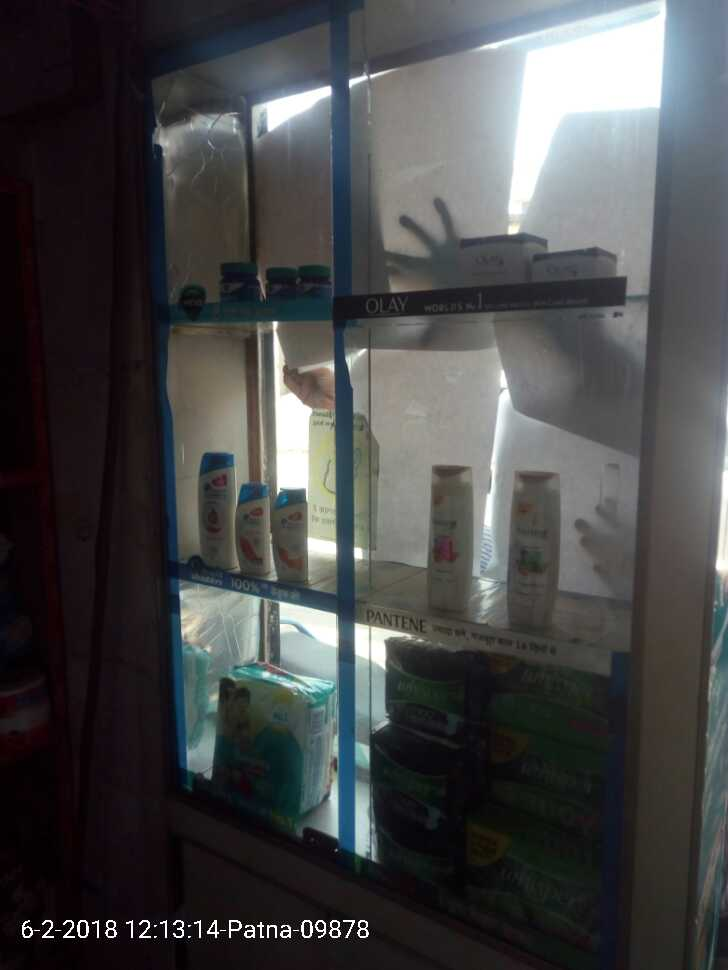beauty: (501, 460, 582, 626), (416, 465, 482, 614), (190, 441, 230, 567), (268, 479, 309, 588), (225, 469, 266, 569)
pharmacy: (192, 664, 340, 822), (459, 801, 582, 950), (490, 660, 613, 789), (361, 729, 442, 881), (377, 643, 473, 736)
